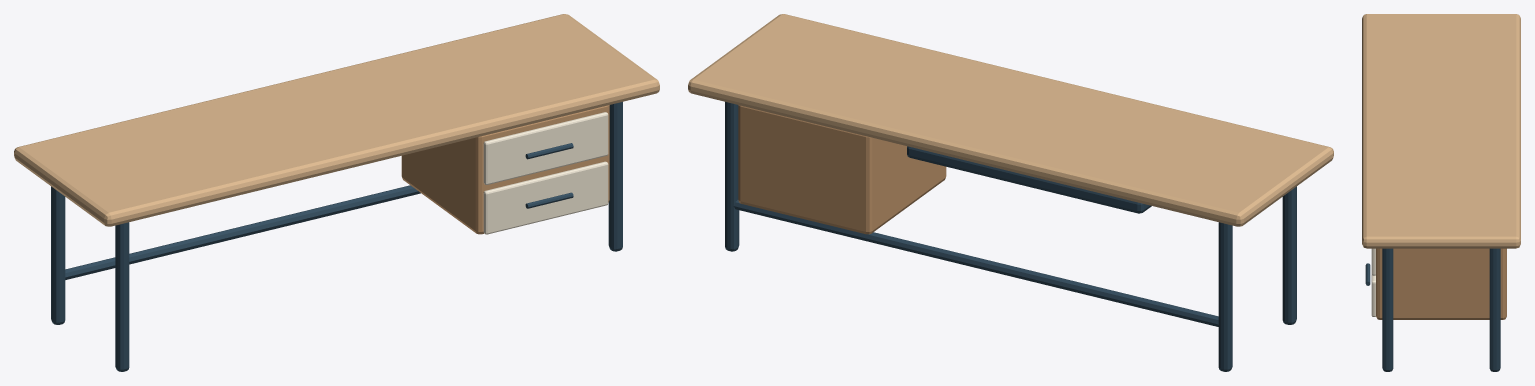
Rendered from desk.glb.
3 renders of one model, left to right at view 1: azimuth 30°, elevation 25°; view 2: azimuth 150°, elevation 25°; view 3: azimuth 270°, elevation 25°, orthographic. The views are drawn at different scales.
Visible parts, largest first — view 1: desk_Mesh; view 2: desk_Mesh; view 3: desk_Mesh.
Part boxes in pixels (x1,y1,x2,y2): desk_Mesh: [14, 14, 659, 371]; desk_Mesh: [688, 14, 1333, 371]; desk_Mesh: [1362, 14, 1520, 371].
Size of the model in its own units: 2.7 by 0.8075 by 0.8.
